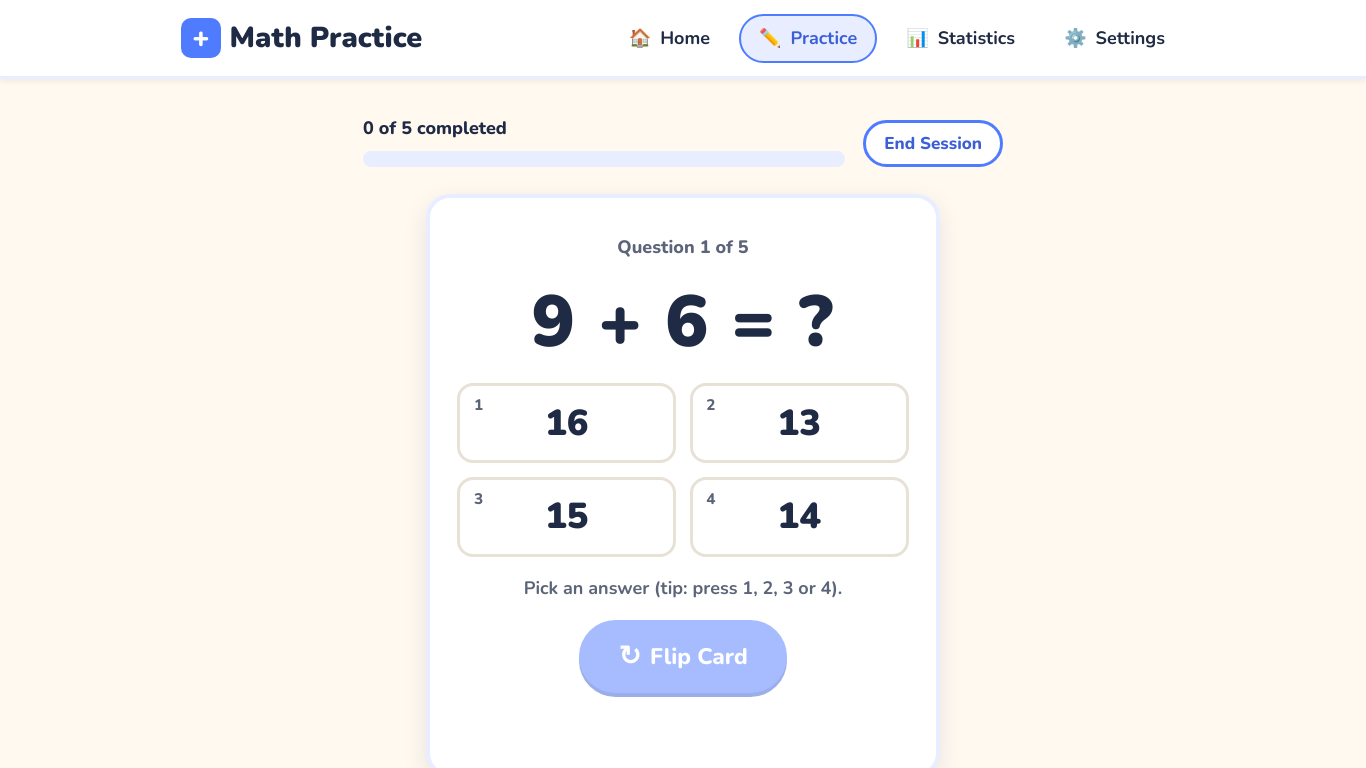
Test: session safety › asks before leaving through the nav bar, and can keep practicing
This screenshot has width=1366, height=768.
Click the button "1 16" at (567, 423), box [458, 383, 676, 463]
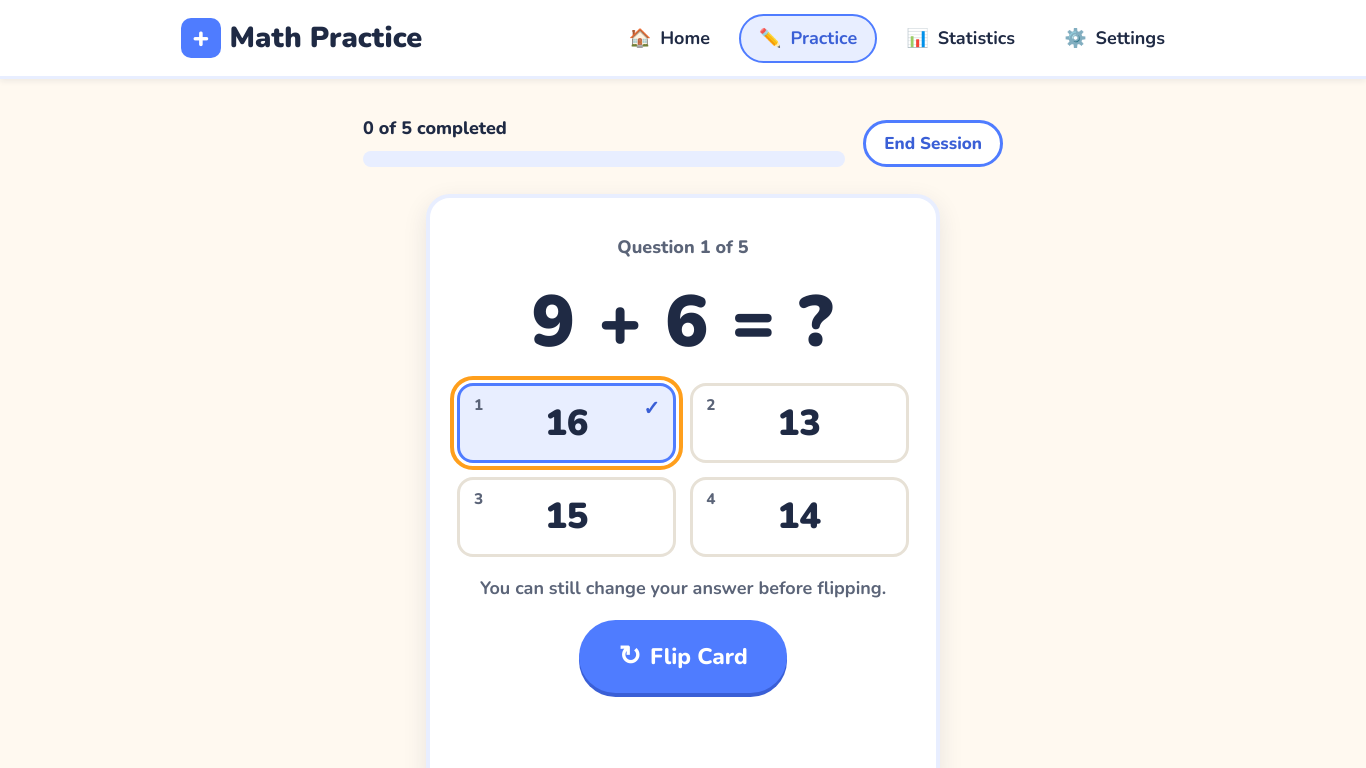
Click the button "↻ Flip Card" at (683, 656), box [579, 620, 787, 693]
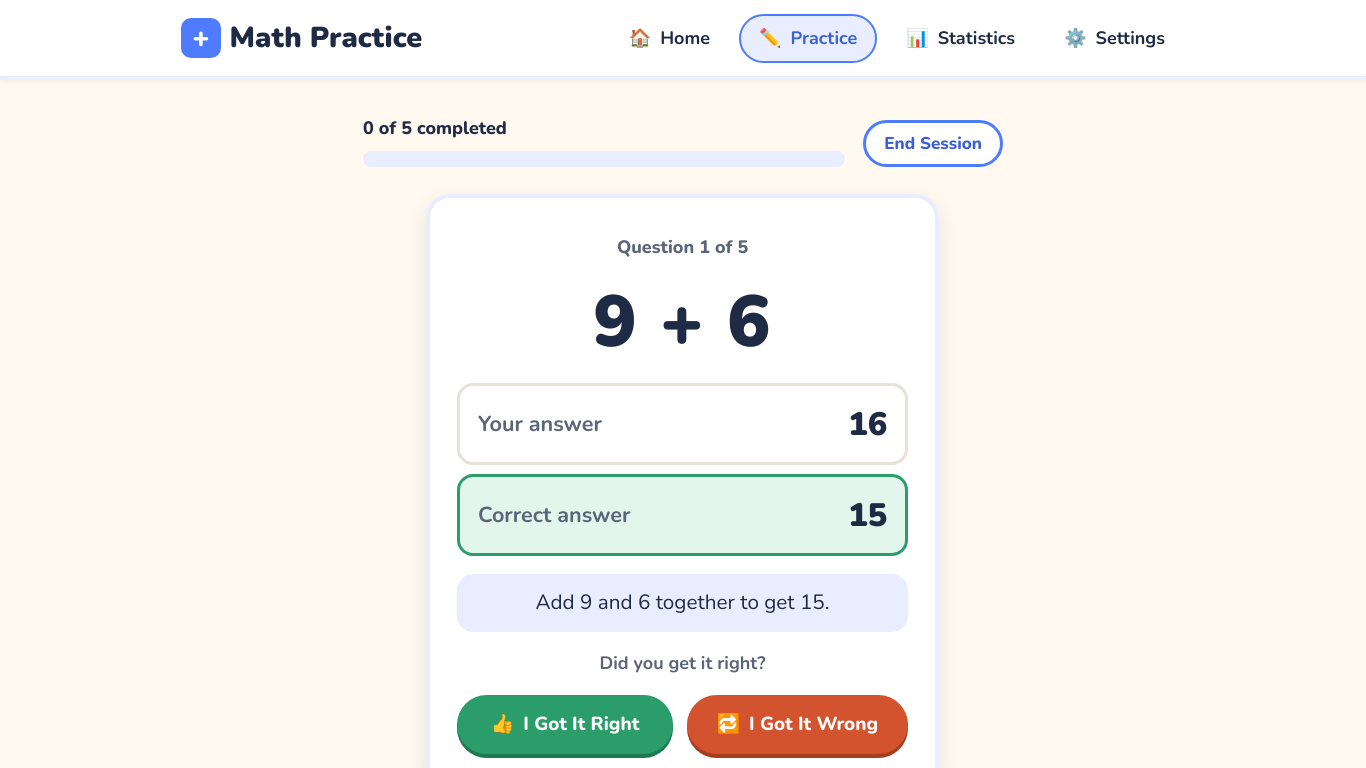
Click the button "🔁 I Got It Wrong" at (798, 724), box [687, 695, 909, 754]
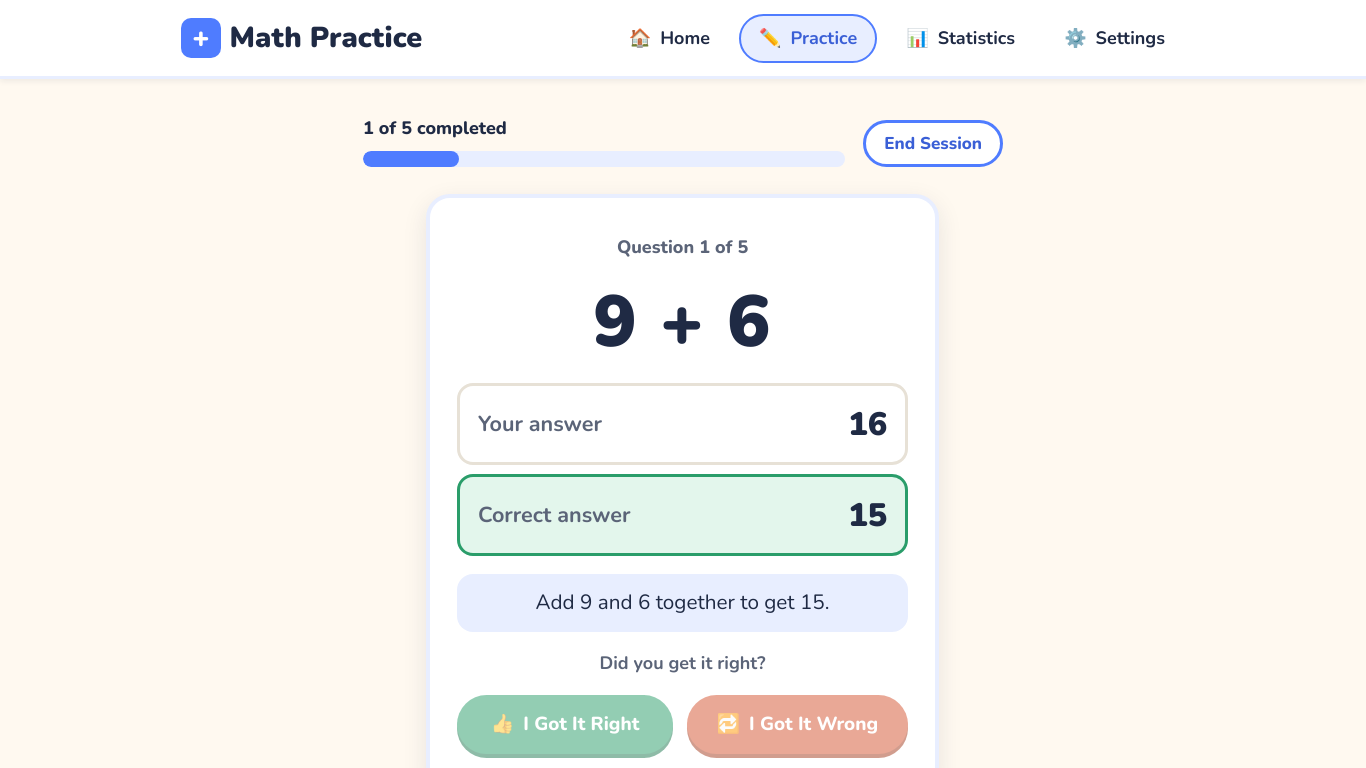
Click the link "📊 Statistics" at (961, 38), box [906, 26, 1015, 50]
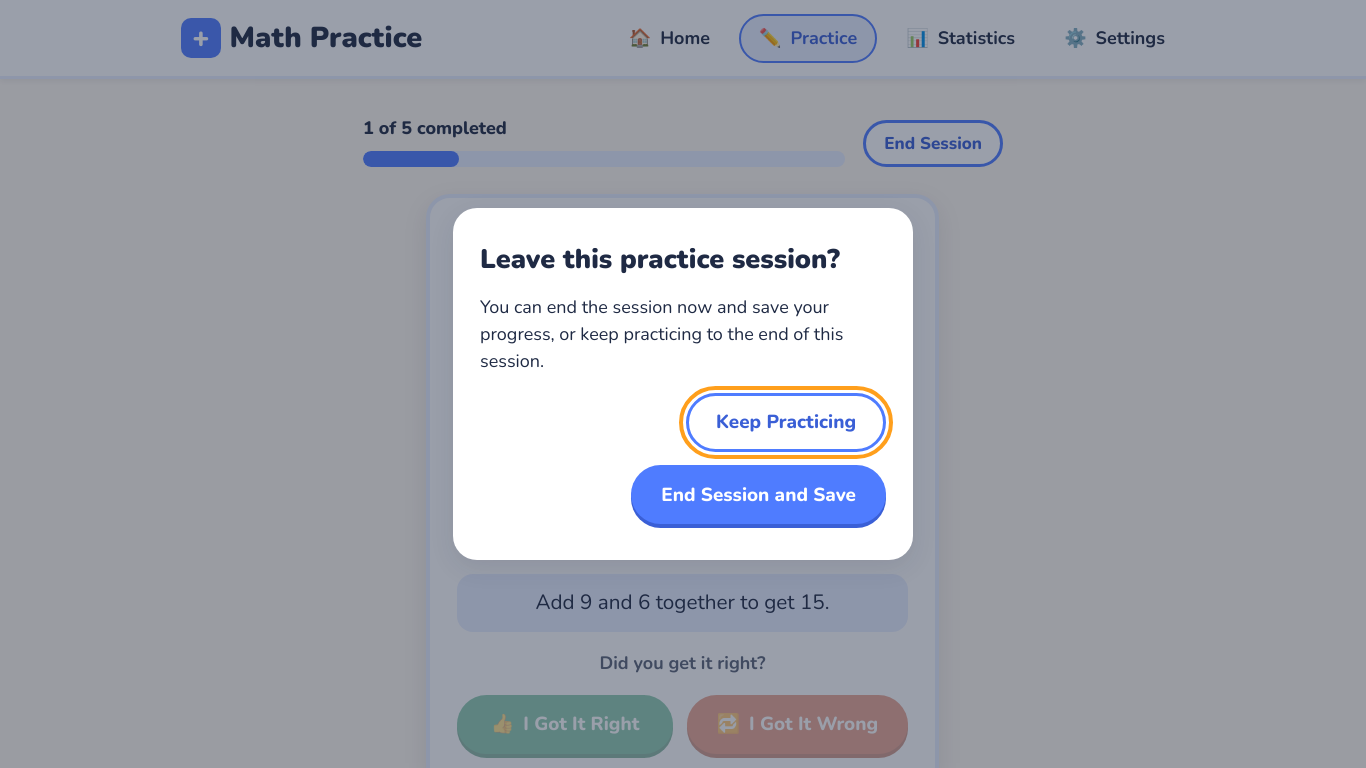
Click the button "Keep Practicing" at (786, 422), box [686, 393, 886, 452]
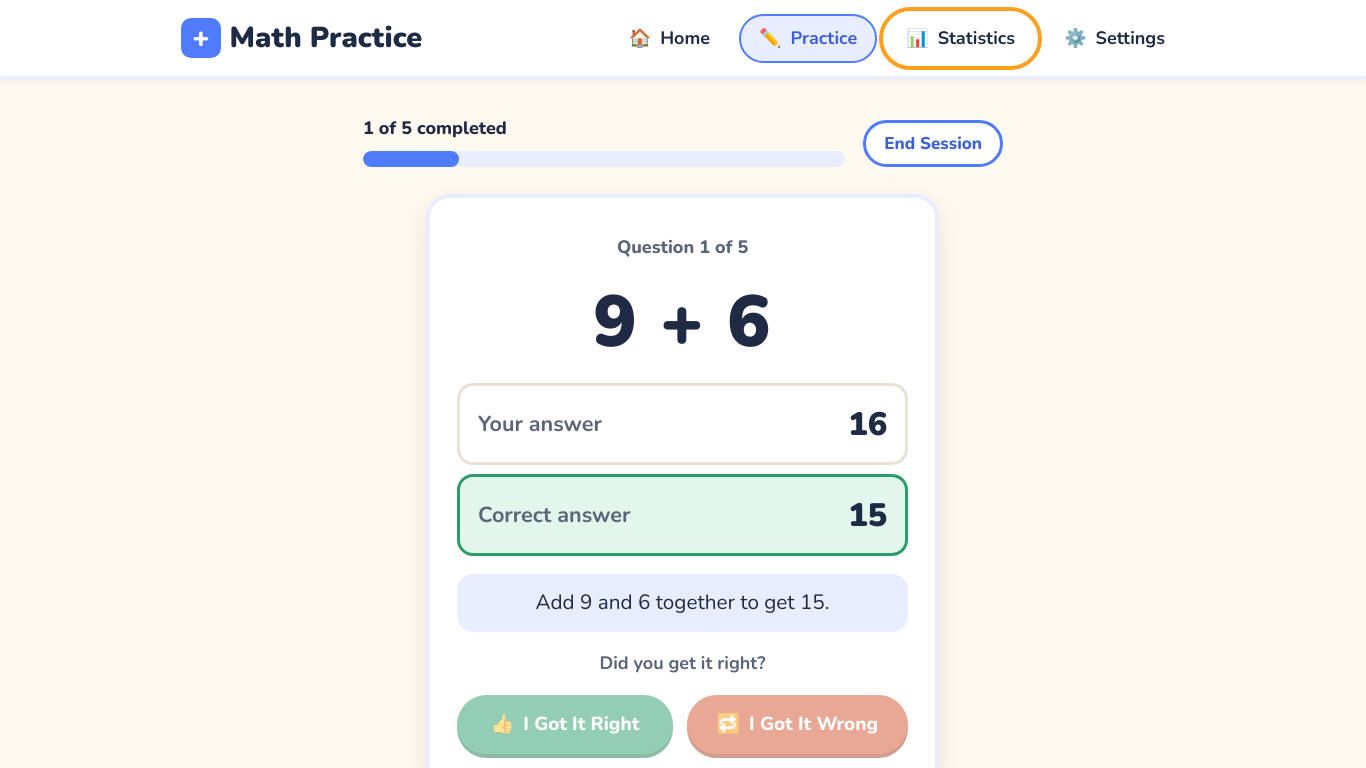
Check: the text "1 of 5 completed" is shown, box [363, 116, 507, 140]
Check: the dialog is gone
